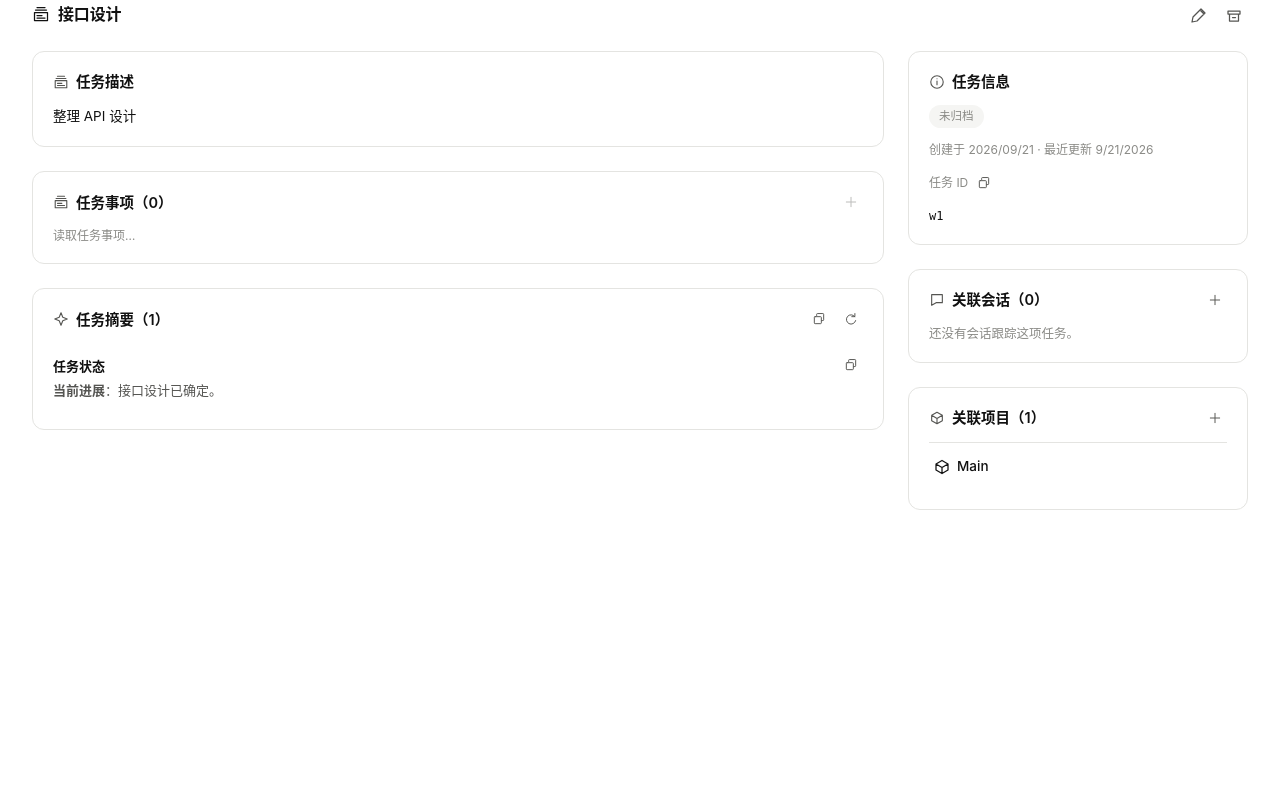
Test: opens the 新建任务 form, prefilled with the current task
Expected: the text "任务描述" is shown, top-left (76, 70), bottom-right (134, 93)
Click the button named "编辑任务".
click(1198, 16)  # box top-left (1184, 2), bottom-right (1212, 30)
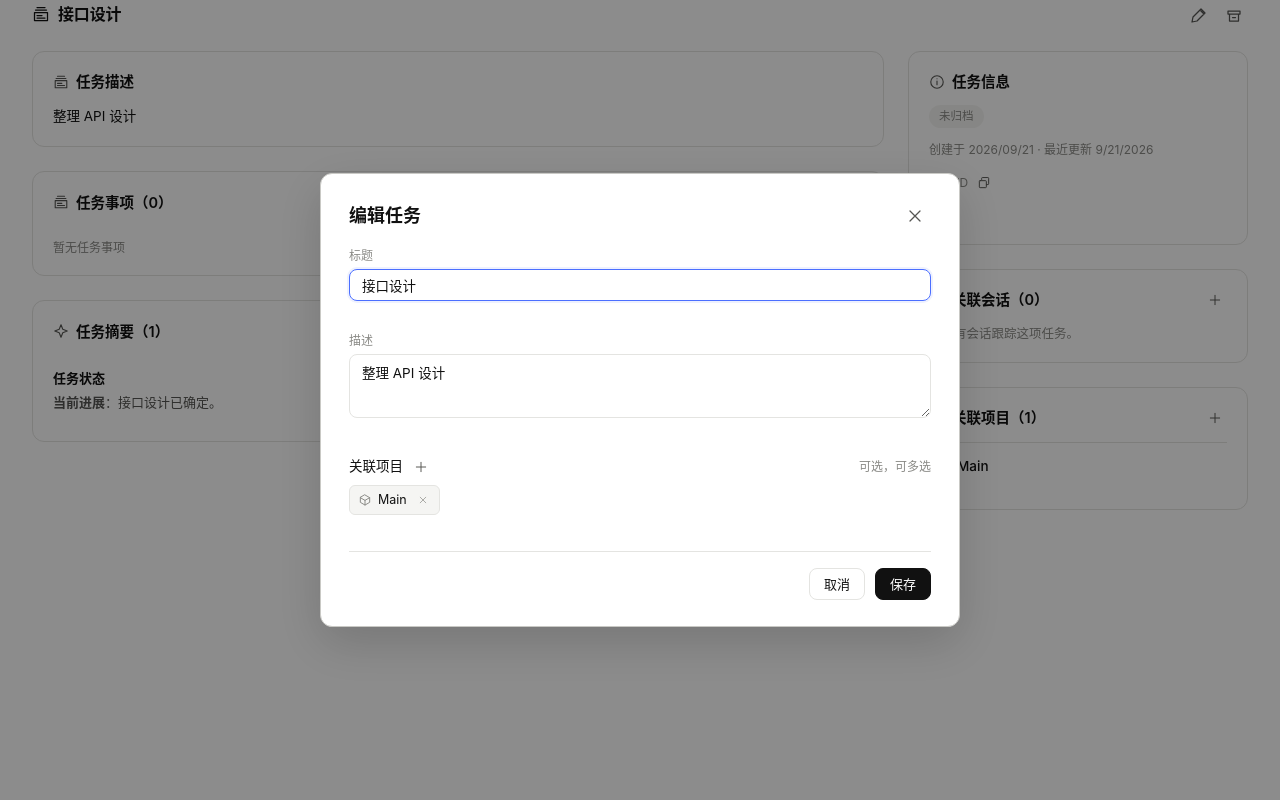
Expected: the field showing "接口设计" is shown, top-left (349, 269), bottom-right (931, 301)
Expected: the text box showing "整理 API 设计" is shown, top-left (349, 354), bottom-right (931, 418)
Expected: the text "Main" is shown, top-left (378, 490), bottom-right (407, 510)
